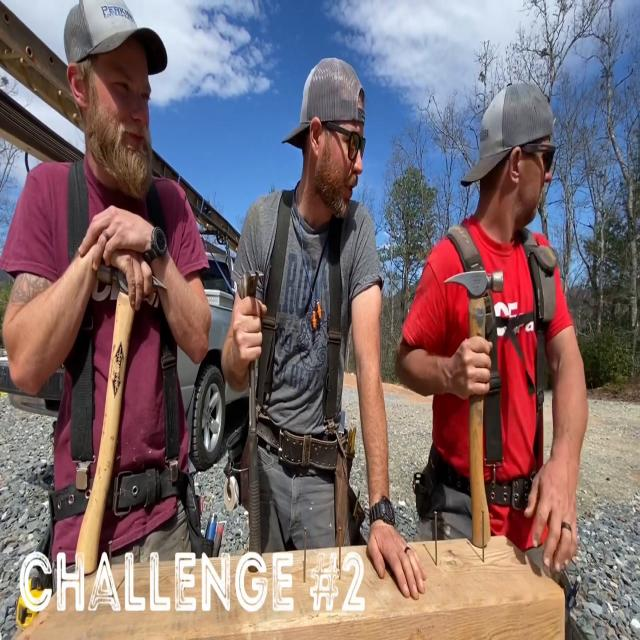hammer: (75, 262, 167, 574), (442, 262, 508, 549), (238, 264, 268, 570)
